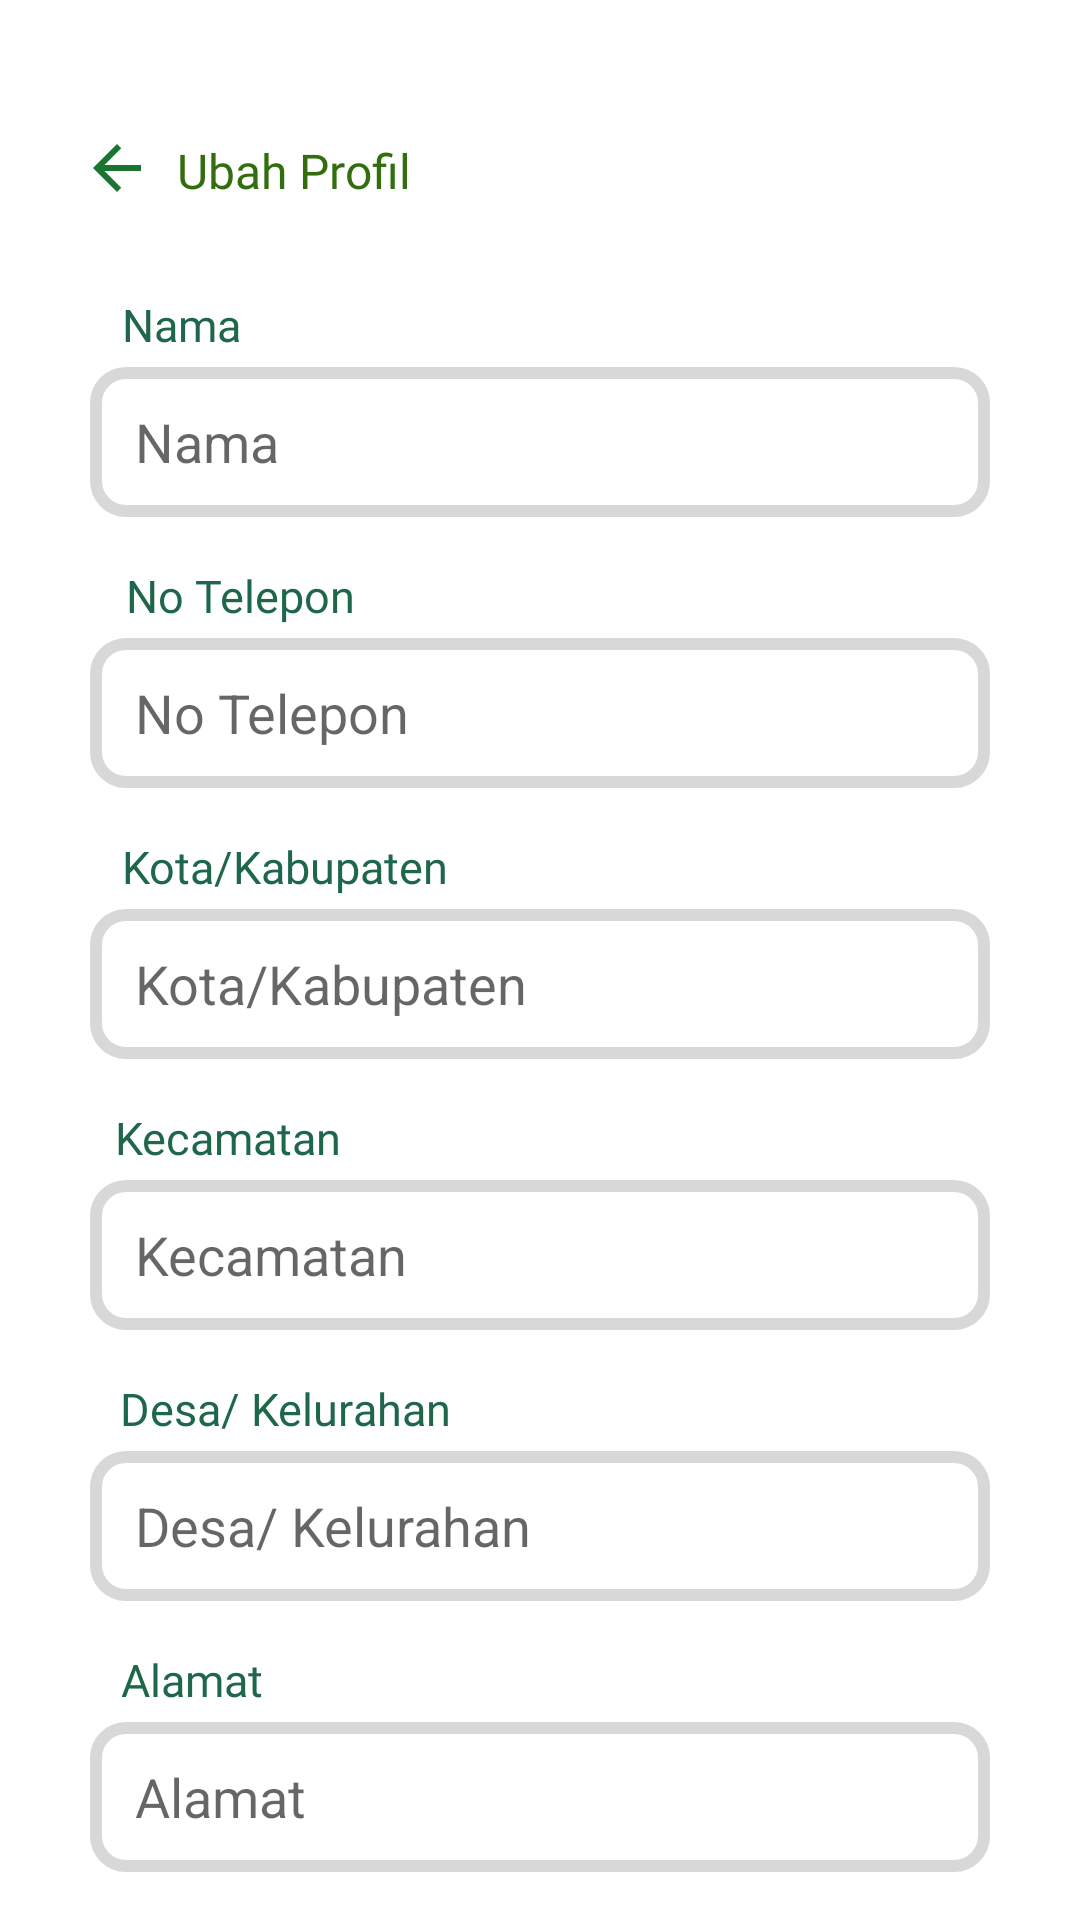

Point at icon controls on the screen. Image size 1080px×1920px, points as point (x, y).
back: point (117, 168)
